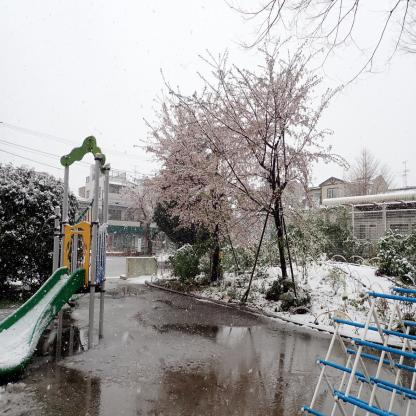Someiyoshino: (137, 52, 334, 240)
